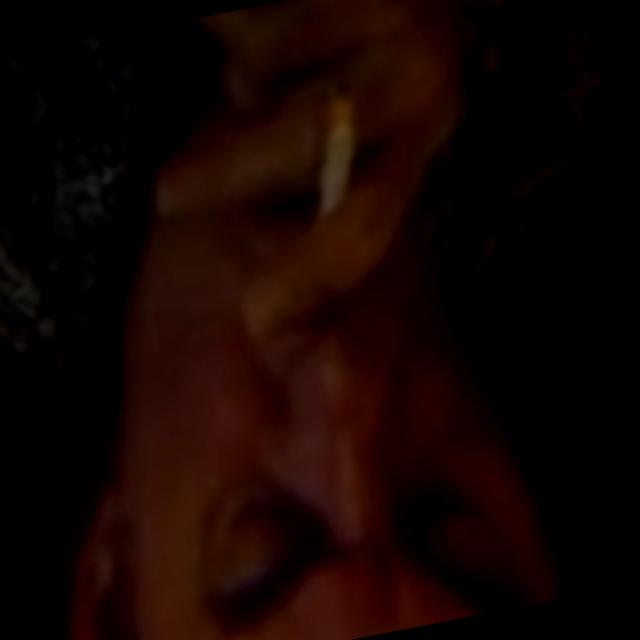smoke: (246, 58, 414, 281)
